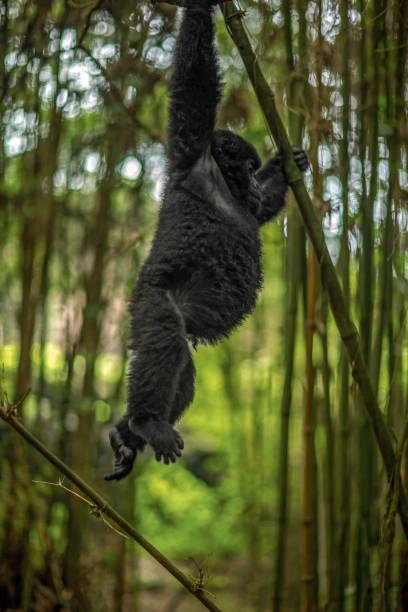goriile_montagne: (99, 5, 308, 486)
